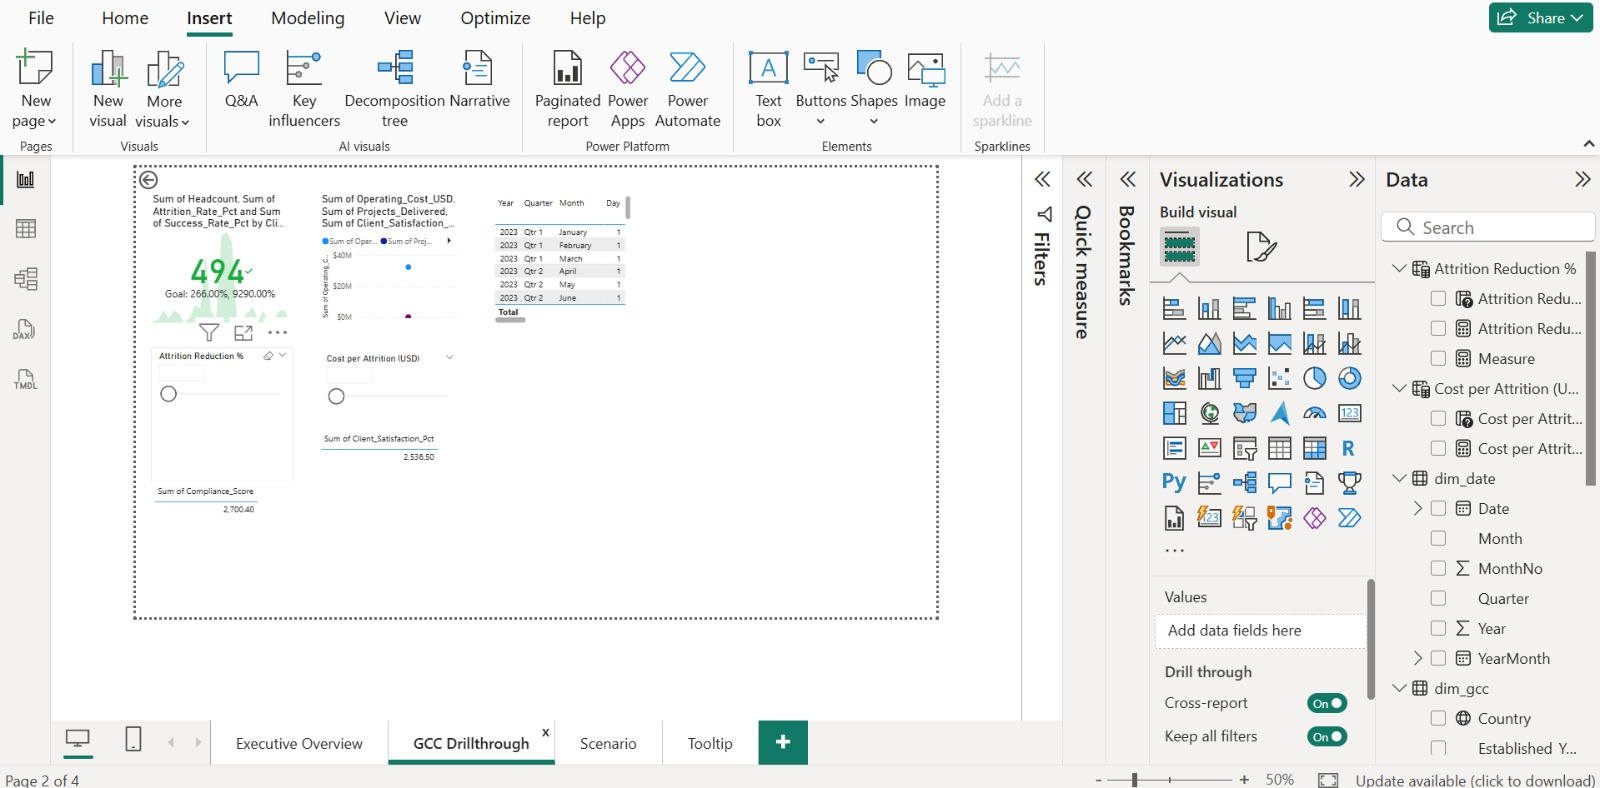

The page's visual inventory and layout, read from the dashboard file:
{"tool":"powerbi","page":{"name":"GCC Drillthrough","canvas":[1280,720],"ordinal":1},"visuals":[{"type":"actionButton","box":[0,0,100,40],"z":0},{"type":"kpi","fields":{"Indicator":["Sum(fact_gcc_ops_monthly.Headcount)"],"Goal":["Sum(fact_gcc_ops_monthly.Attrition_Rate_Pct)","Sum(fact_gcc_ops_monthly.Success_Rate_Pct)"],"TrendLine":["fact_gcc_ops_monthly.Client_Satisfaction_Pct"]},"box":[22.7,39.7,228.7,213.5],"z":1000},{"type":"lineChart","fields":{"Y":["Sum(fact_gcc_ops_monthly.Operating_Cost_USD)","Sum(fact_gcc_ops_monthly.Projects_Delivered)","Sum(fact_gcc_ops_monthly.Client_Satisfaction_Pct)","Sum(fact_gcc_ops_monthly.Attrition_Rate_Pct)"]},"box":[292.9,39.7,228.7,213.5],"z":2000},{"type":"tableEx","fields":{"Values":["dim_date.YearMonth.Variation.Date Hierarchy.Year","dim_date.YearMonth.Variation.Date Hierarchy.Quarter","dim_date.YearMonth.Variation.Date Hierarchy.Month","dim_date.YearMonth.Variation.Date Hierarchy.Day","Sum(fact_gcc_ops_monthly.Headcount)","Sum(fact_gcc_ops_monthly.Training_Hours_per_FTE)","Sum(fact_gcc_ops_monthly.Audit_Findings)","Sum(fact_gcc_ops_monthly.Avg_Resolution_Time_Hours)"]},"box":[568.8,39.7,228.7,213.5],"z":3000},{"type":"slicer","fields":{"Values":["Attrition Reduction % .Attrition Reduction % "]},"box":[23,287,229,214],"z":4000},{"type":"slicer","fields":{"Values":["Cost per Attrition (USD).Cost per Attrition (USD)"]},"box":[292.9,291,228.7,209.8],"z":5000},{"type":"tableEx","fields":{"Values":["Sum(fact_gcc_ops_monthly.Client_Satisfaction_Pct)"]},"box":[290.8,418.3,229,207.1],"z":6000},{"type":"tableEx","fields":{"Values":["Sum(fact_gcc_ops_monthly.Compliance_Score)"]},"box":[23,501,229,150],"z":7000}]}

Visuals, with their boxes on the page's 1280x720 design canvas (x1, y1, x2, y2). These are canvas units, not pixel positions in the 1600x788 screenshot, which may show the page scaled, cropped or inside an application window:
actionButton: 0,0,100,40
kpi - Sum(fact_gcc_ops_monthly.Headcount) x Sum(fact_gcc_ops_monthly.Attrition_Rate_Pct): 23,40,251,253
lineChart - Sum(fact_gcc_ops_monthly.Operating_Cost_USD) x Sum(fact_gcc_ops_monthly.Projects_Delivered): 293,40,522,253
tableEx - dim_date.YearMonth.Variation.Date Hierarchy.Year x dim_date.YearMonth.Variation.Date Hierarchy.Quarter: 569,40,798,253
slicer - Attrition Reduction % .Attrition Reduction % : 23,287,252,501
slicer - Cost per Attrition (USD).Cost per Attrition (USD): 293,291,522,501
tableEx - Sum(fact_gcc_ops_monthly.Client_Satisfaction_Pct): 291,418,520,625
tableEx - Sum(fact_gcc_ops_monthly.Compliance_Score): 23,501,252,651
